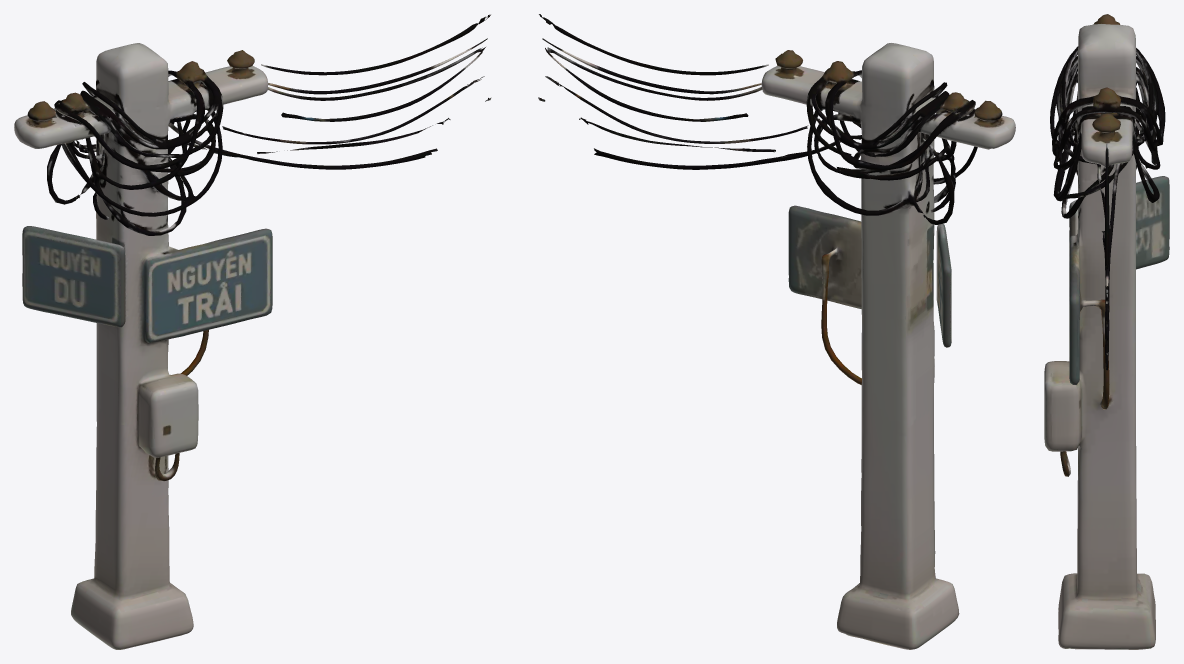
Rendered from cot_dien.glb.
3 renders of one model, left to right at view 1: azimuth 30°, elevation 25°; view 2: azimuth 150°, elevation 25°; view 3: azimuth 270°, elevation 25°, orthographic. The views are drawn at different scales.
Parts seen in each view (by area): view 1: tripo_node_91de0f94; view 2: tripo_node_91de0f94; view 3: tripo_node_91de0f94.
Part boxes in pixels (x1,y1,x2,y2): tripo_node_91de0f94: [14, 14, 491, 649]; tripo_node_91de0f94: [538, 14, 1015, 649]; tripo_node_91de0f94: [1044, 14, 1169, 649].
Bounding box in the file's own units: 1.65 × 1.9 × 0.3579.
Materials: 1 (1 with a texture image).
